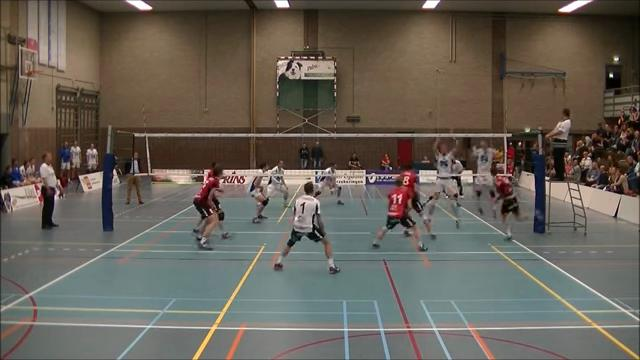Player: (274, 182, 339, 273), (372, 176, 427, 250), (427, 138, 459, 227), (400, 164, 435, 239), (193, 165, 223, 249), (203, 162, 230, 238), (495, 176, 522, 240), (473, 140, 495, 217), (314, 163, 343, 204), (249, 163, 268, 222), (267, 160, 288, 207), (203, 162, 215, 183)
